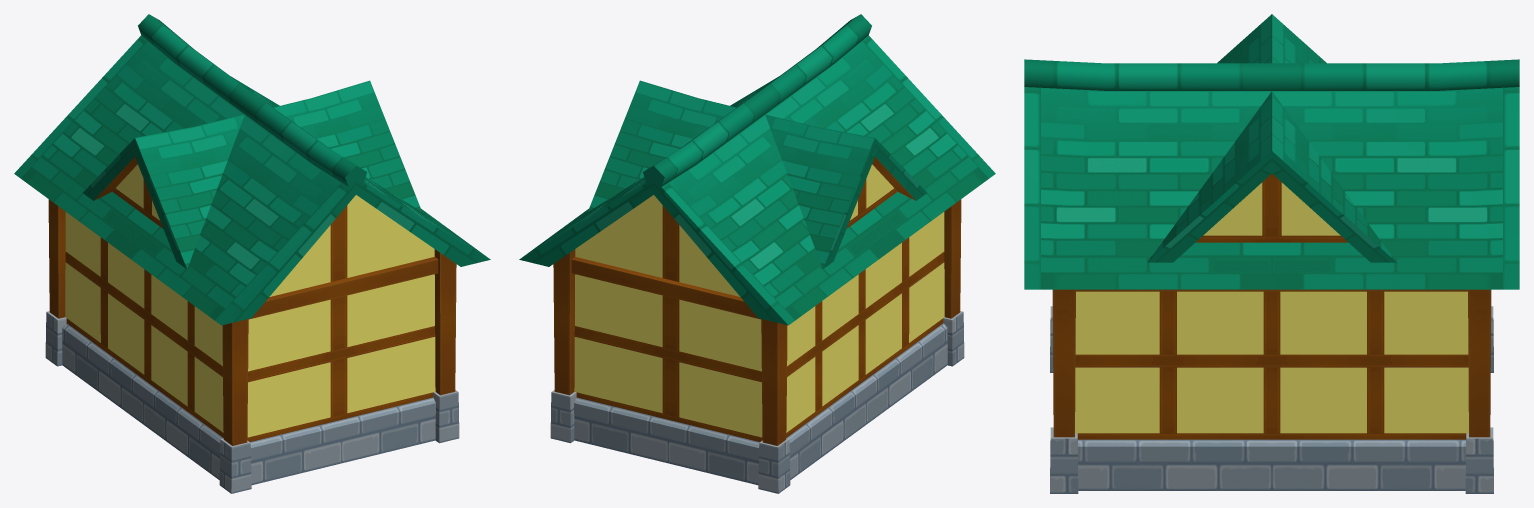
The model's file is HOS0410001.fbx.
3 renders of one model, left to right at view 1: azimuth 30°, elevation 25°; view 2: azimuth 150°, elevation 25°; view 3: azimuth 270°, elevation 25°, orthographic. The views are drawn at different scales.
Parts seen in each view (by area): view 1: smHOS0410001; view 2: smHOS0410001; view 3: smHOS0410001.
Part boxes in pixels (<box>): smHOS0410001: <box>14,14,490,493</box>; smHOS0410001: <box>519,14,995,493</box>; smHOS0410001: <box>1024,14,1519,493</box>.
Size of the model in its own units: 321 by 351 by 428.
Materials: 1 (1 with a texture image).
